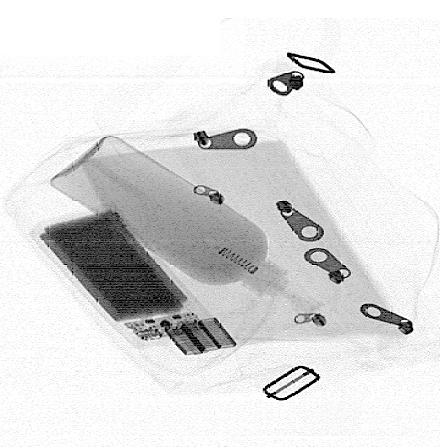Powerbank: (30, 204, 219, 350)
